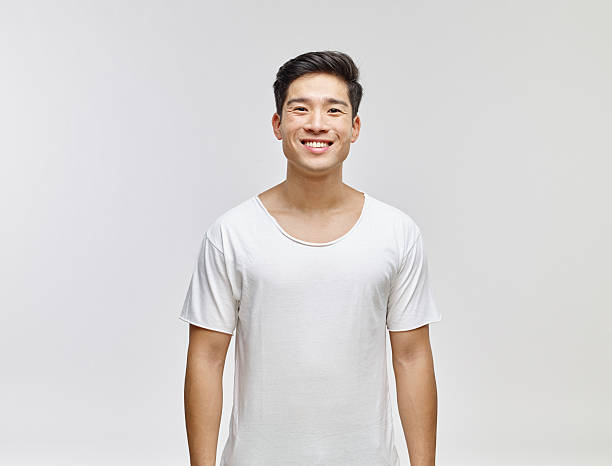person: (269, 50, 364, 188)
